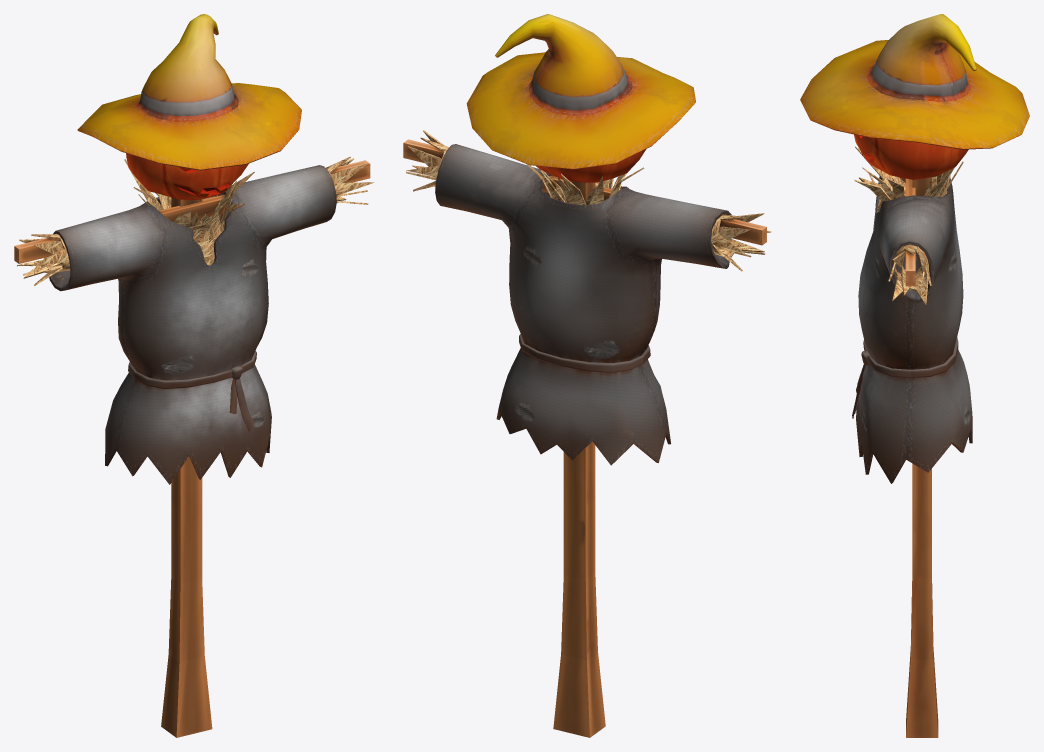
File: ScareCrow01.FBX
The picture shows the model from 3 angles, left to right: view 1: azimuth 30°, elevation 25°; view 2: azimuth 150°, elevation 25°; view 3: azimuth 270°, elevation 25°; orthographic projection. The views are drawn at different scales.
Parts seen in each view (by area): view 1: ScareCrow01; view 2: ScareCrow01; view 3: ScareCrow01.
Boxes of the visible parts, left/top/right/bottom form: ScareCrow01: left=14, top=14, right=374, bottom=737; ScareCrow01: left=403, top=14, right=771, bottom=737; ScareCrow01: left=800, top=14, right=1029, bottom=737.
Size of what is drawn, in the model's own units: 1.25 by 2.38 by 0.6845.
